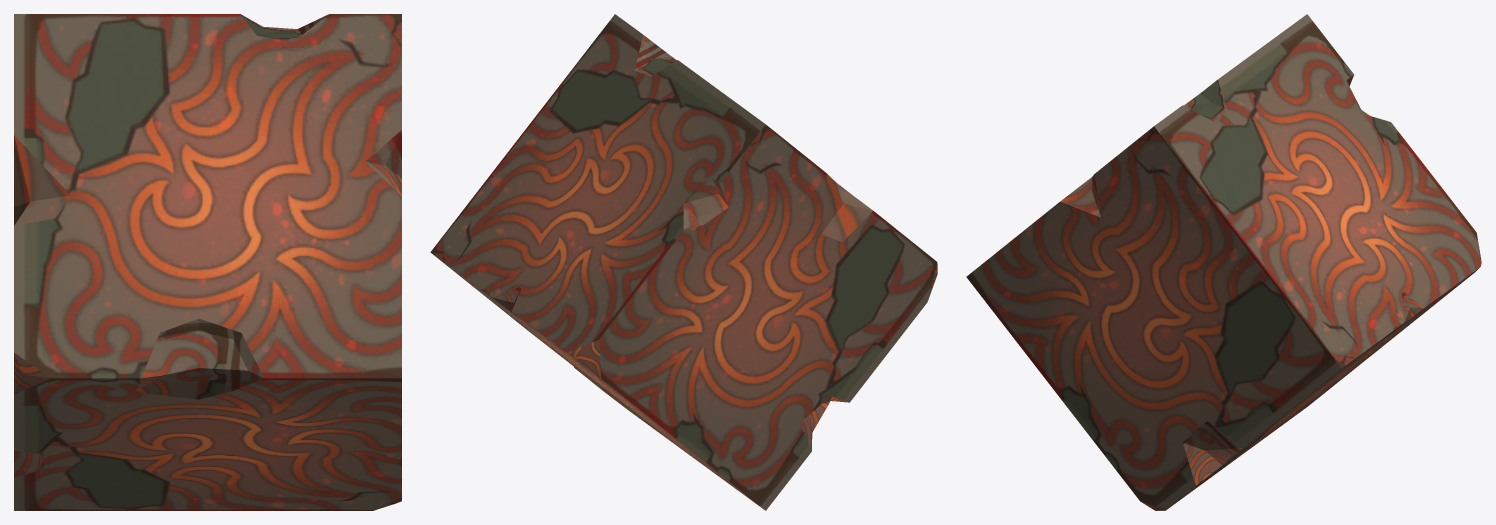
The model's file is Eff_Model_Effigy_Fire_Shield.fbx.
3 views of the same model, side by side, from view 1: azimuth 30°, elevation 25°; view 2: azimuth 150°, elevation 25°; view 3: azimuth 270°, elevation 25° (orthographic). The views are drawn at different scales.
Visible parts, largest first — view 1: Eff_Model_Effigy_Fire_Shield; view 2: Eff_Model_Effigy_Fire_Shield; view 3: Eff_Model_Effigy_Fire_Shield.
Part boxes in pixels (<box>): Eff_Model_Effigy_Fire_Shield: <box>14,14,401,510</box>; Eff_Model_Effigy_Fire_Shield: <box>430,14,937,510</box>; Eff_Model_Effigy_Fire_Shield: <box>966,14,1481,510</box>.
Bounding box in the file's own units: 109 × 99.37 × 118.
1 material, 1 textured.
